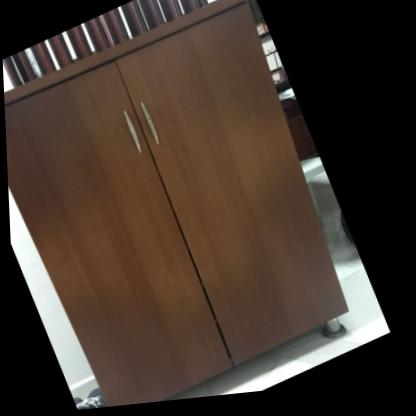Cabinet: (1, 0, 366, 416)
